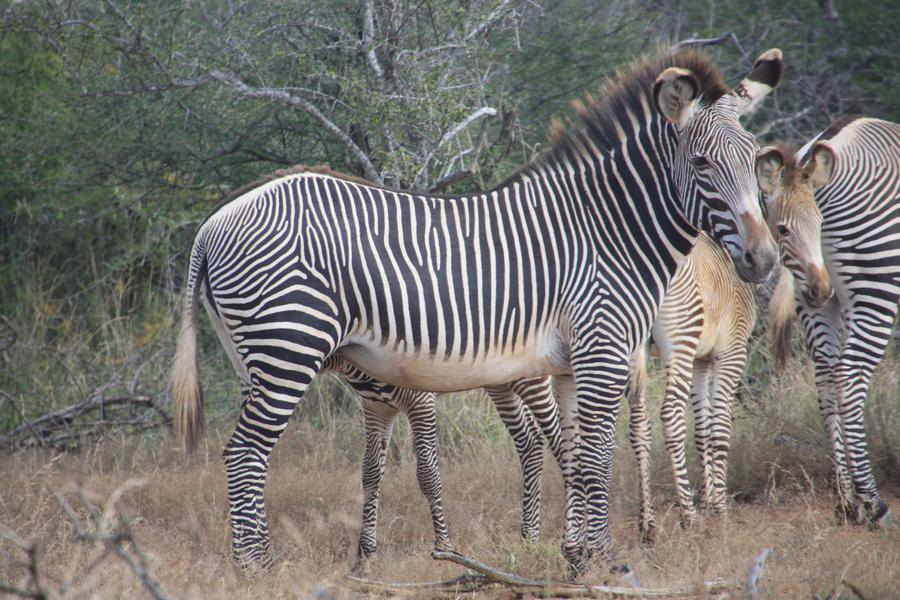zebra_grevys: (177, 168, 635, 348)
